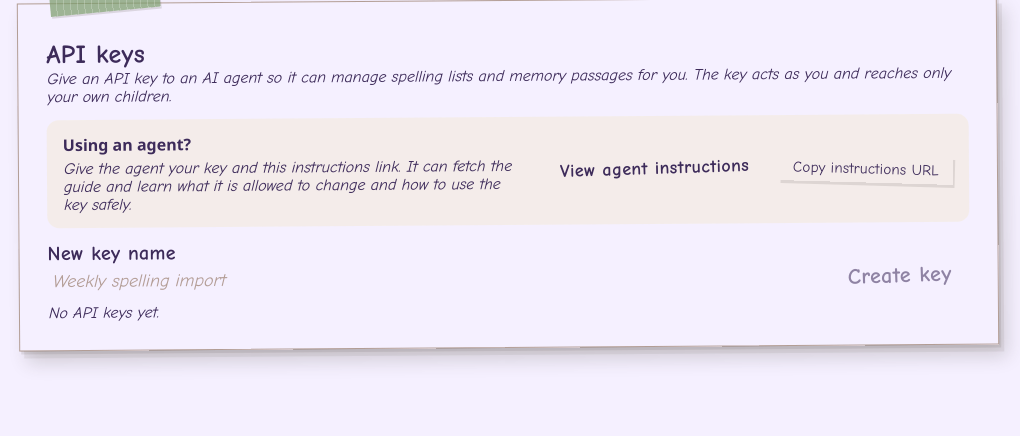
Test: creating a key › surfaces a server refusal without clearing what was typed
Type "One too many" into the field labelled "New key name" at (434, 280), box [48,260,820,300]
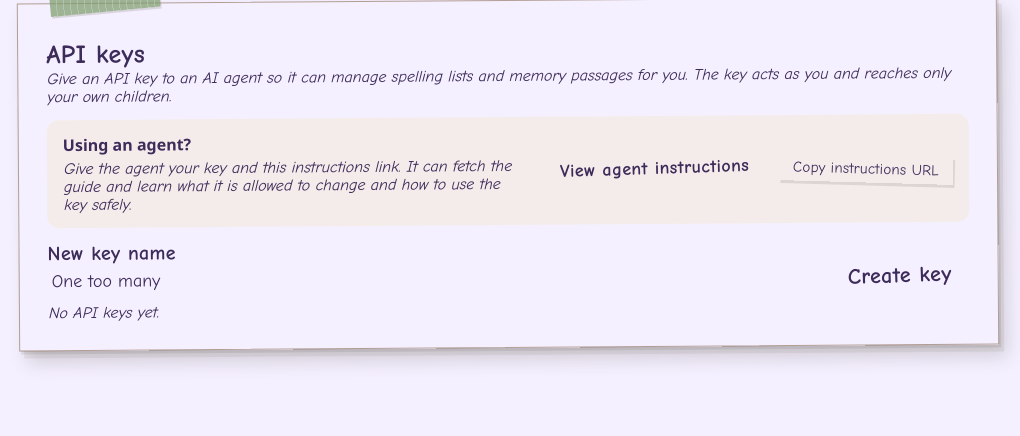
Click the button "Create key" at (900, 277), box [829,257,970,297]
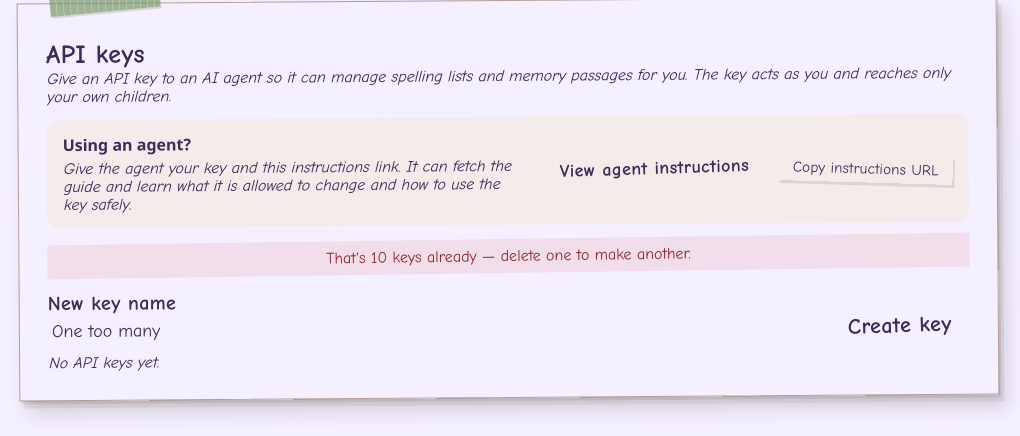
expect the text "That's 10 keys already — delete one to make another." is shown: met, box [47,233,970,280]
